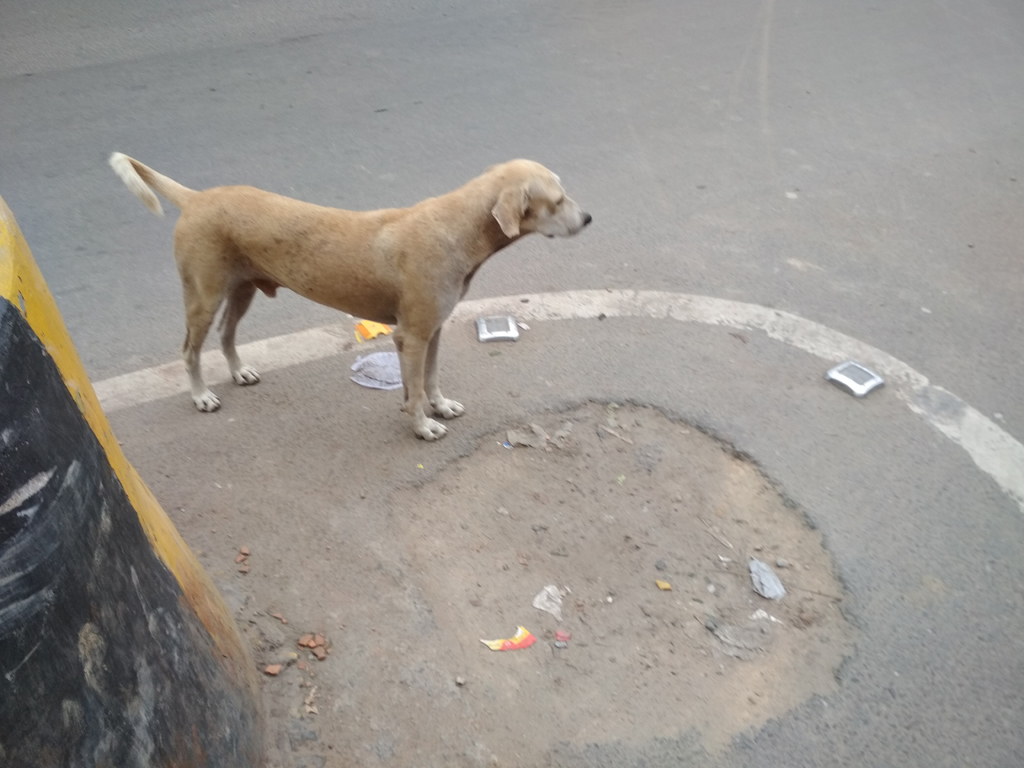dog: (106, 150, 598, 441)
